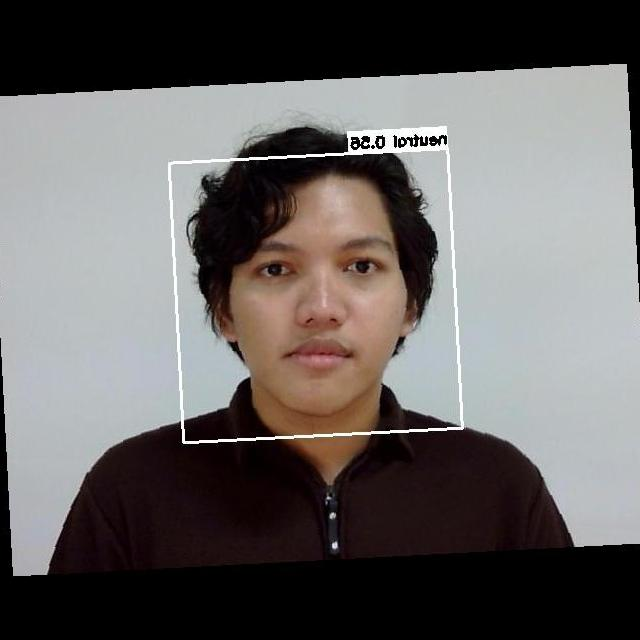Natural: (238, 223, 405, 387)
